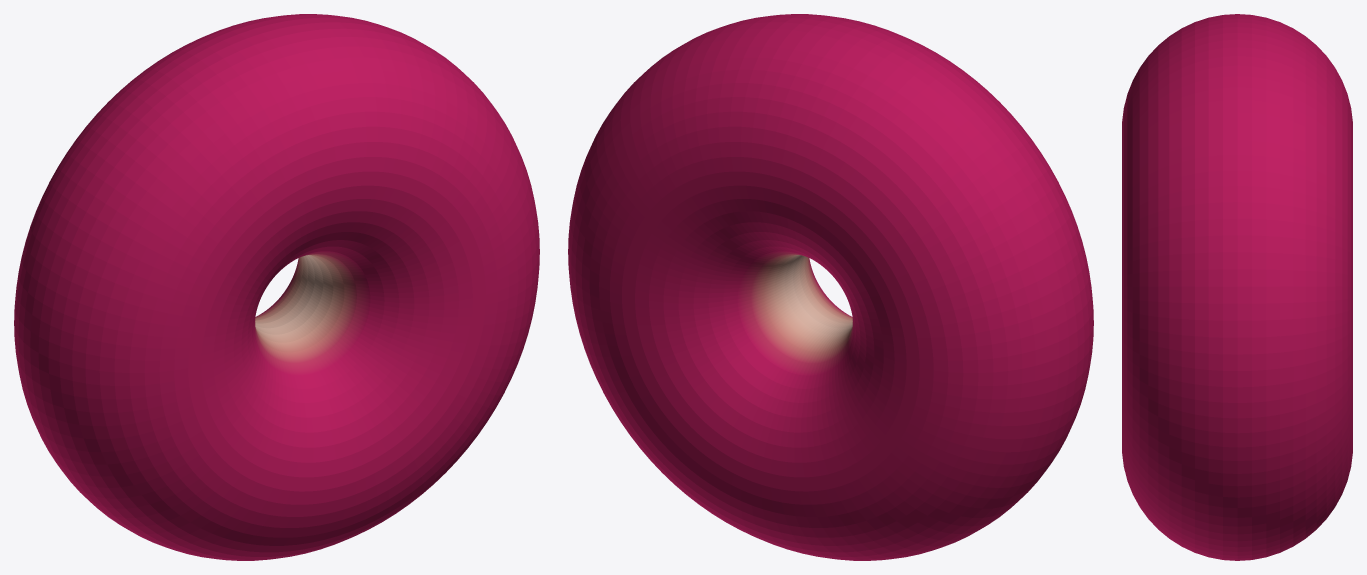
The picture shows the model from 3 angles, left to right: view 1: azimuth 30°, elevation 25°; view 2: azimuth 150°, elevation 25°; view 3: azimuth 270°, elevation 25°; orthographic projection. The views are drawn at different scales.
Visible parts, largest first — view 1: world; view 2: world; view 3: world.
Part boxes in pixels (<box>): world: <box>14,14,539,560</box>; world: <box>568,14,1093,560</box>; world: <box>1122,14,1352,560</box>.
Size of the model in its own units: 17.33 by 17.33 by 7.32.
